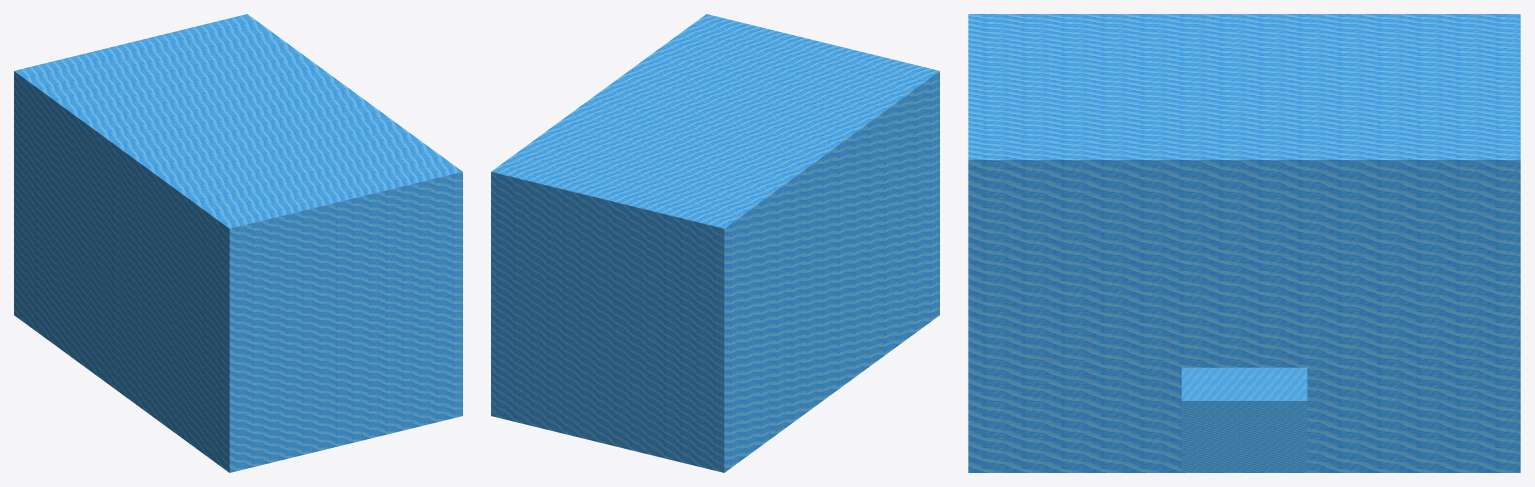
Rendered from SnowWorld.obj.
The picture shows the model from 3 angles, left to right: view 1: azimuth 30°, elevation 25°; view 2: azimuth 150°, elevation 25°; view 3: azimuth 270°, elevation 25°; orthographic projection. The views are drawn at different scales.
Parts seen in each view (by area): view 1: Grass.049_Grass.037, Grass.051_Grass.037, Grass.053_Grass.037; view 2: Grass.050_Grass.037, Grass.051_Grass.037, Grass.053_Grass.037; view 3: Grass.052_Grass.037, Grass.053_Grass.037, Grass.118_Grass.061, Grass.117_Grass.061.
Boxes of the visible parts, bbox=[...] form: Grass.049_Grass.037: bbox=[229, 172, 462, 472]; Grass.051_Grass.037: bbox=[14, 71, 229, 472]; Grass.053_Grass.037: bbox=[14, 14, 462, 228]; Grass.050_Grass.037: bbox=[491, 172, 724, 472]; Grass.051_Grass.037: bbox=[724, 71, 939, 472]; Grass.053_Grass.037: bbox=[491, 14, 939, 228]; Grass.052_Grass.037: bbox=[968, 160, 1520, 472]; Grass.053_Grass.037: bbox=[968, 14, 1520, 159]; Grass.118_Grass.061: bbox=[1181, 401, 1307, 472]; Grass.117_Grass.061: bbox=[1181, 367, 1307, 400].
Size of the model in its own units: 46.66 by 38 by 60.8.
Materials: 2 (2 with a texture image).
